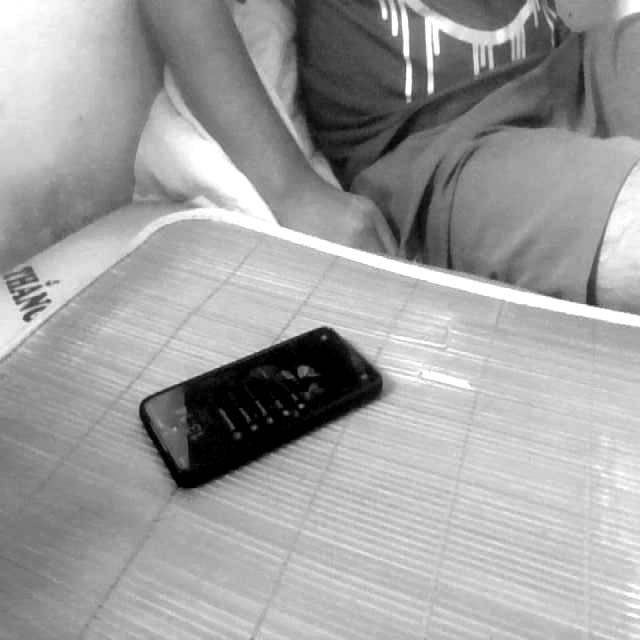phone: (119, 307, 404, 507)
